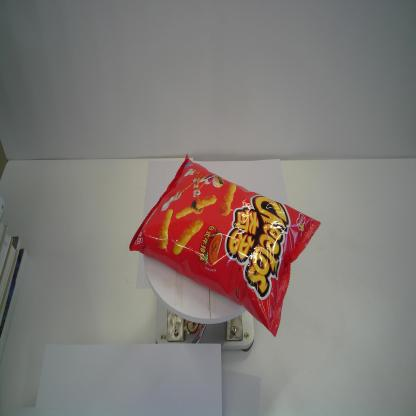Puffed Food: (129, 152, 321, 337)
